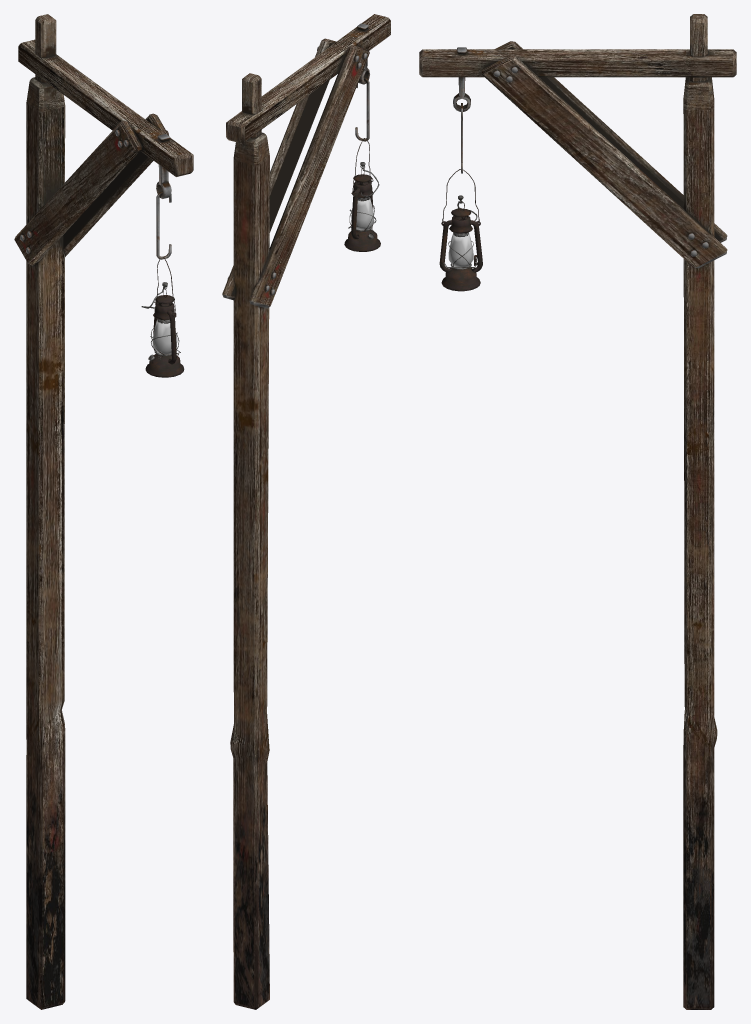
File: lantern_post.glb
3 renders of one model, left to right at view 1: azimuth 30°, elevation 25°; view 2: azimuth 150°, elevation 25°; view 3: azimuth 270°, elevation 25°, orthographic. The views are drawn at different scales.
Visible parts, largest first — view 1: Wood_w; view 2: Wood_w; view 3: Wood_w.
Part boxes in pixels (box(x1,y1,x2,y2)): Wood_w: box(14, 14, 193, 1009); Wood_w: box(222, 14, 390, 1009); Wood_w: box(419, 14, 736, 1009).
Size of the model in its own units: 0.2073 by 4.6 by 1.34.
Materials: 4 (2 with a texture image).
